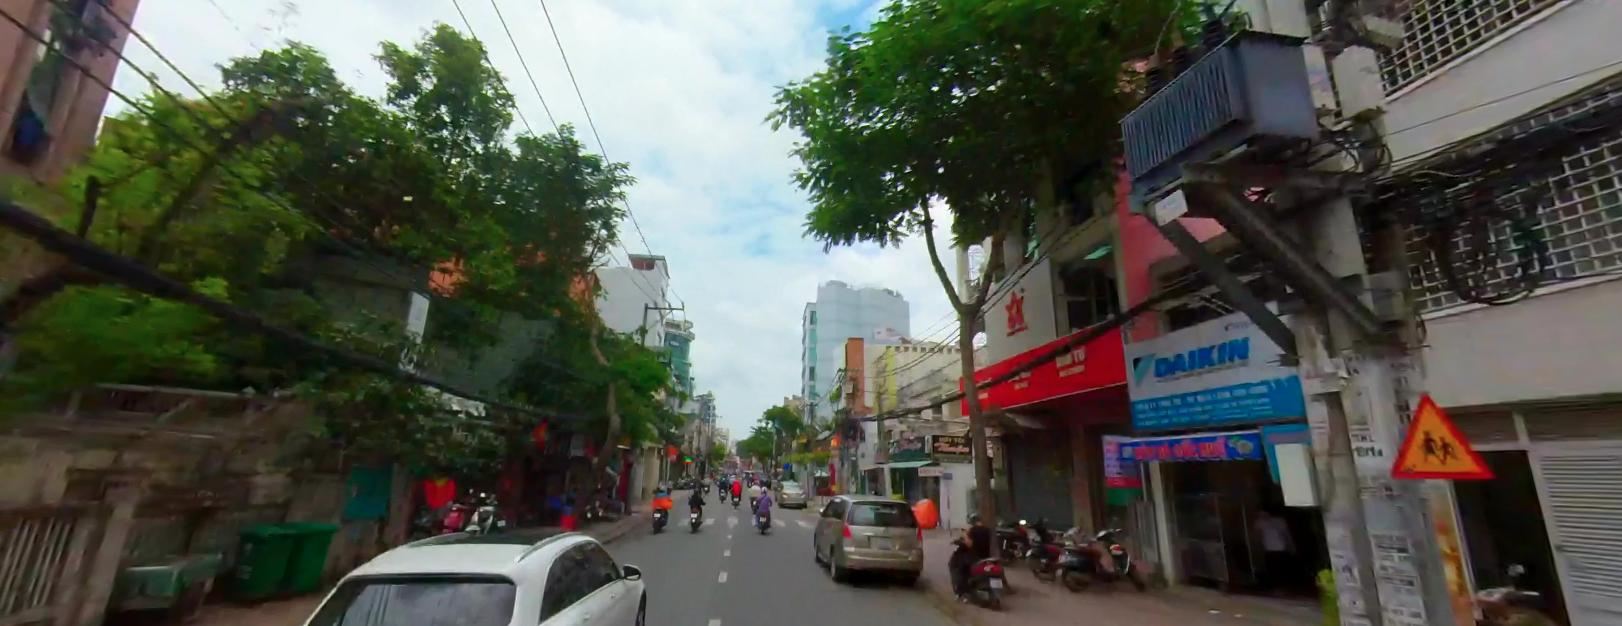Nguy hiem: (1384, 389, 1495, 480)
